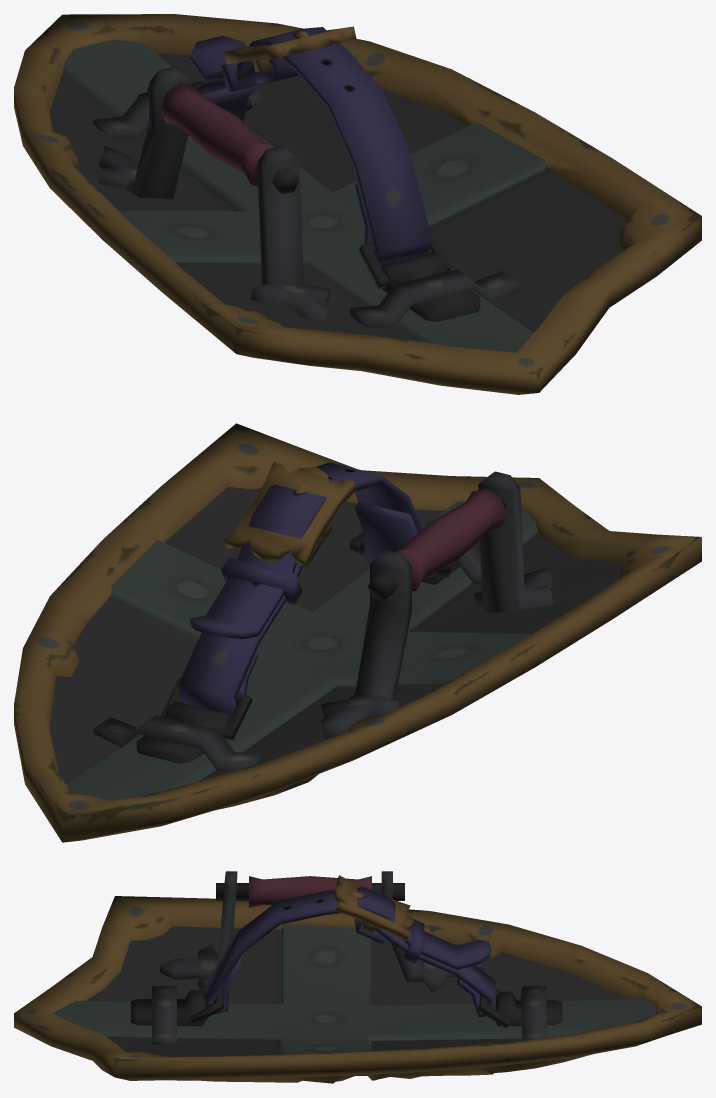
File: Weapon_Shield_022.glb
3 views of the same model, one above another, from view 1: azimuth 30°, elevation 25°; view 2: azimuth 150°, elevation 25°; view 3: azimuth 270°, elevation 25° (orthographic). The views are drawn at different scales.
Visible parts, largest first — view 1: Weapon_Shield_022; view 2: Weapon_Shield_022; view 3: Weapon_Shield_022.
Part boxes in pixels (left/top/right/bottom): Weapon_Shield_022: left=14, top=14, right=701, bottom=394; Weapon_Shield_022: left=14, top=423, right=701, bottom=842; Weapon_Shield_022: left=14, top=871, right=701, bottom=1083.
Bounding box in the file's own units: 0.5278 × 0.2645 × 0.9363.
Materials: 1 (1 with a texture image).
